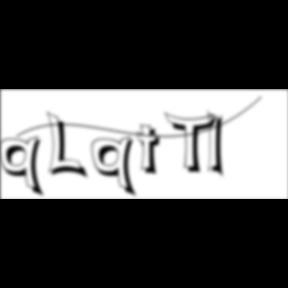L: (47, 110, 91, 182)
T: (164, 112, 222, 176)
l: (207, 108, 230, 182)
q: (0, 135, 48, 200), (92, 135, 140, 200)
t: (136, 124, 168, 179)
